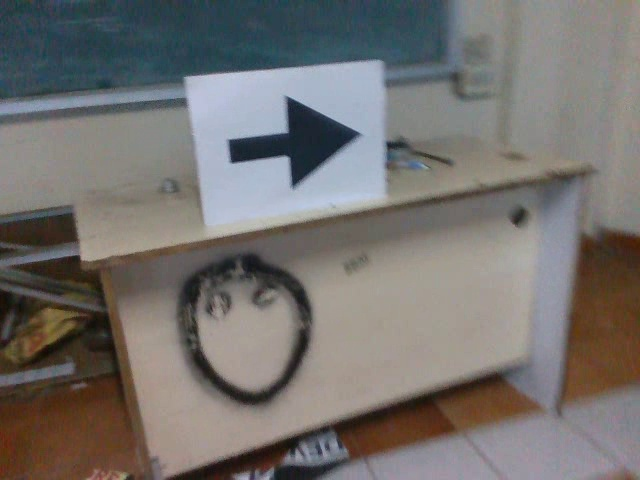Right: (217, 87, 364, 192)
